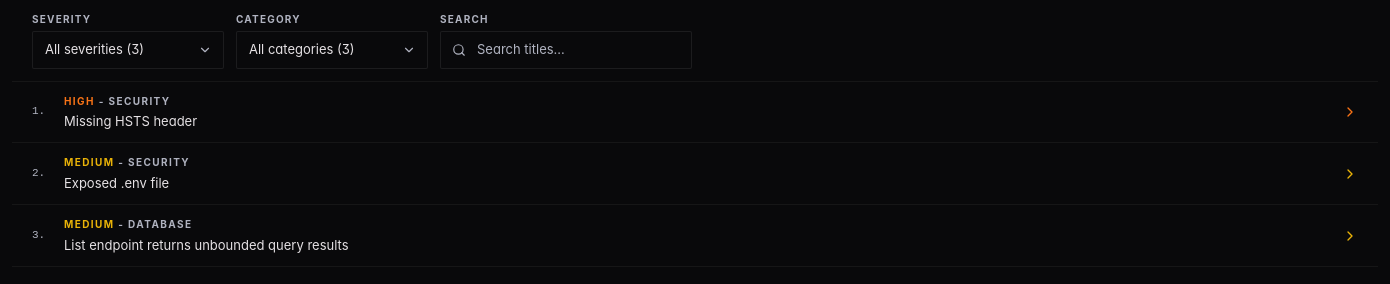
Test case: IssueList › filters the queue by the titles it already shows
Type "unbounded" into the search field named "search issue titles" at (566,50), box [440,31,692,68]
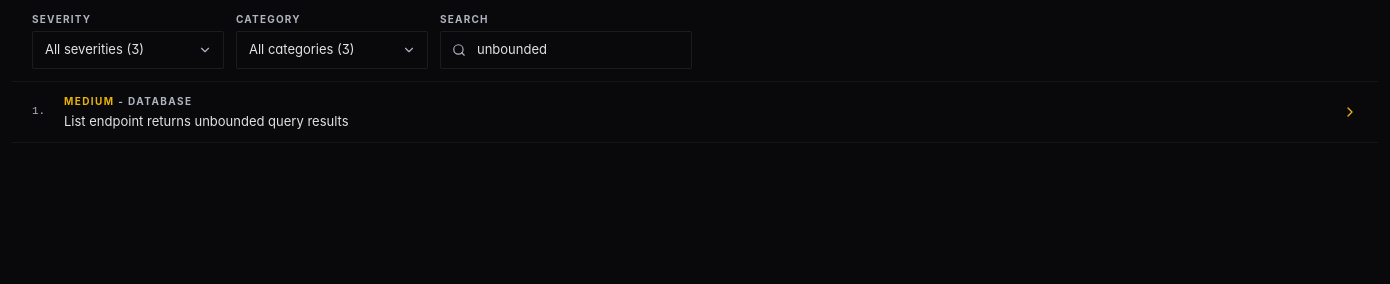
Check: the text "List endpoint returns unbounded query results" is shown, box [64,113,348,129]
Check: the button "Missing HSTS header" is gone
Check: the button "Exposed .env file" is gone
Replace the text in the search field named "search issue titles" with "no such issue" at (566,50), box [440,31,692,68]
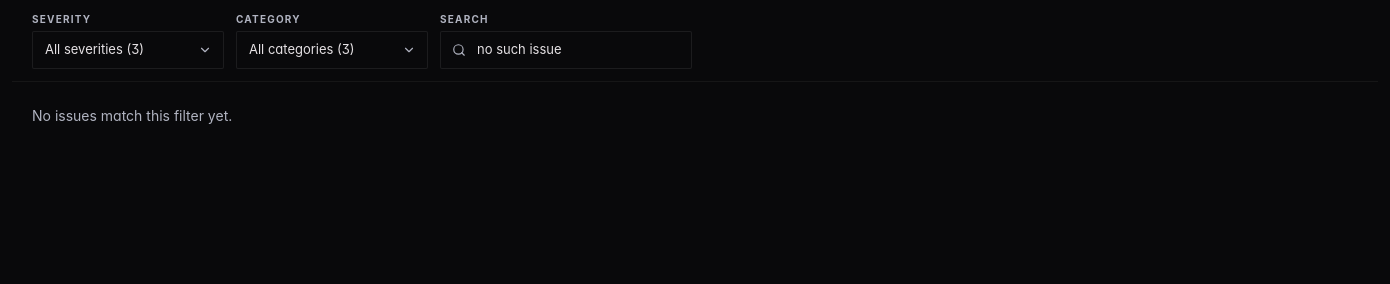
Check: the text "No issues match this filter yet." is shown, box [32,106,232,124]
